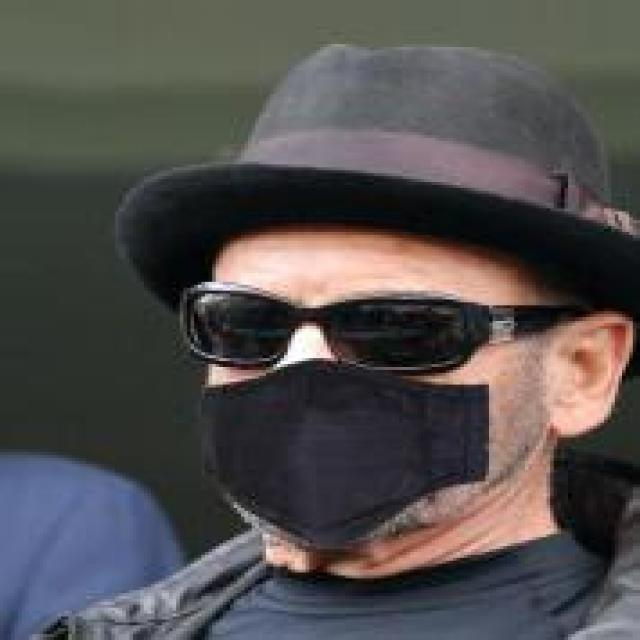mask: (108, 103, 640, 566)
